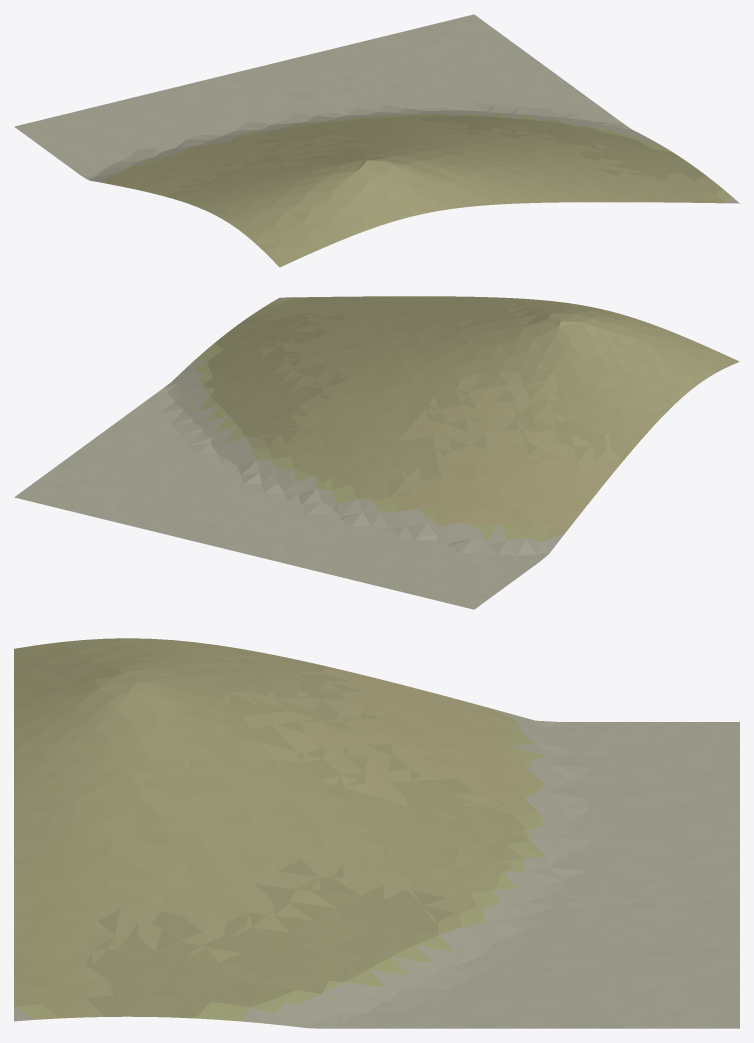
The model's file is Ground_-4_-1.glb.
3 views of the same model, one above another, from view 1: azimuth 30°, elevation 25°; view 2: azimuth 150°, elevation 25°; view 3: azimuth 270°, elevation 25° (orthographic). The views are drawn at different scales.
Visible parts, largest first — view 1: Ground_-4_-1; view 2: Ground_-4_-1; view 3: Ground_-4_-1.
Part boxes in pixels (x1=…): Ground_-4_-1: x1=14, y1=14, x2=739, y2=267; Ground_-4_-1: x1=14, y1=296, x2=739, y2=609; Ground_-4_-1: x1=14, y1=638, x2=739, y2=1028.
Bounding box in the file's own units: 768 × 151 × 768.
